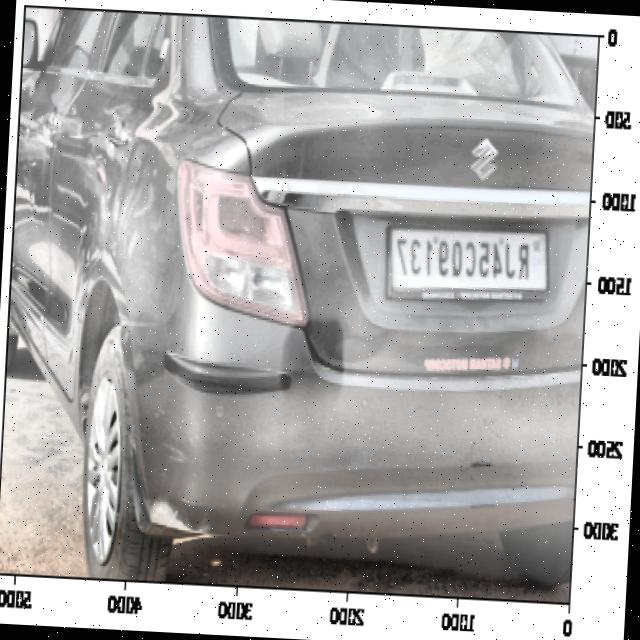license_plate: (391, 230, 542, 300)
